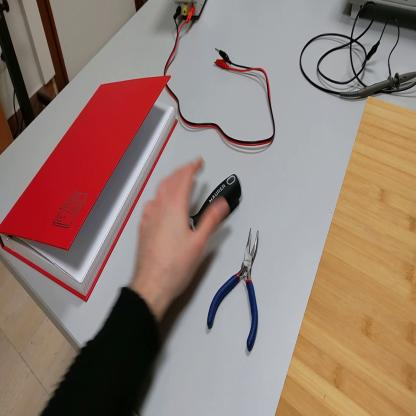hand: (135, 158, 231, 305)
oscilloscope probe tip: (339, 70, 415, 98)
pliers: (208, 230, 262, 353)
power supply: (176, 1, 207, 22)
register: (2, 74, 179, 305)
screwdriver-: (194, 174, 244, 236)
working area: (276, 91, 415, 415)
